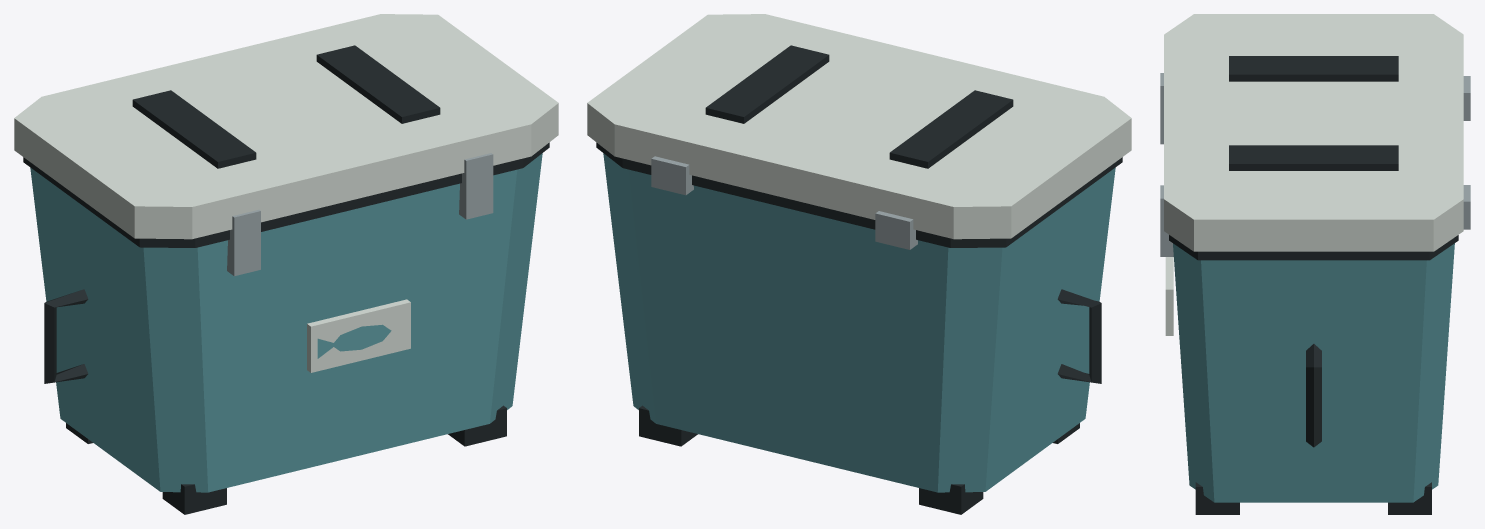
File: medium_box.glb
3 renders of one model, left to right at view 1: azimuth 30°, elevation 25°; view 2: azimuth 150°, elevation 25°; view 3: azimuth 270°, elevation 25°, orthographic.
Parts seen in each view (by area): view 1: medium_box__medium_box body, medium_box__Insulated lid, medium_box__Rubber and grip, medium_box__Stainless fittings; view 2: medium_box__medium_box body, medium_box__Insulated lid, medium_box__Rubber and grip, medium_box__Stainless fittings; view 3: medium_box__Insulated lid, medium_box__medium_box body, medium_box__Rubber and grip, medium_box__Stainless fittings.
Boxes of the visible parts, box(x1,y1,x2,y2) form: medium_box__medium_box body: box(30, 153, 542, 492); medium_box__Insulated lid: box(14, 14, 558, 372); medium_box__Rubber and grip: box(23, 45, 549, 514); medium_box__Stainless fittings: box(227, 153, 493, 276); medium_box__medium_box body: box(603, 153, 1115, 492); medium_box__Insulated lid: box(587, 14, 1131, 239); medium_box__Rubber and grip: box(596, 45, 1122, 514); medium_box__Stainless fittings: box(651, 156, 917, 249); medium_box__Insulated lid: box(1164, 14, 1463, 335); medium_box__medium_box body: box(1173, 243, 1454, 502); medium_box__Rubber and grip: box(1169, 56, 1458, 514); medium_box__Stainless fittings: box(1160, 73, 1470, 256).
Size of the model in its own units: 0.6299 by 0.408 by 0.3512.
